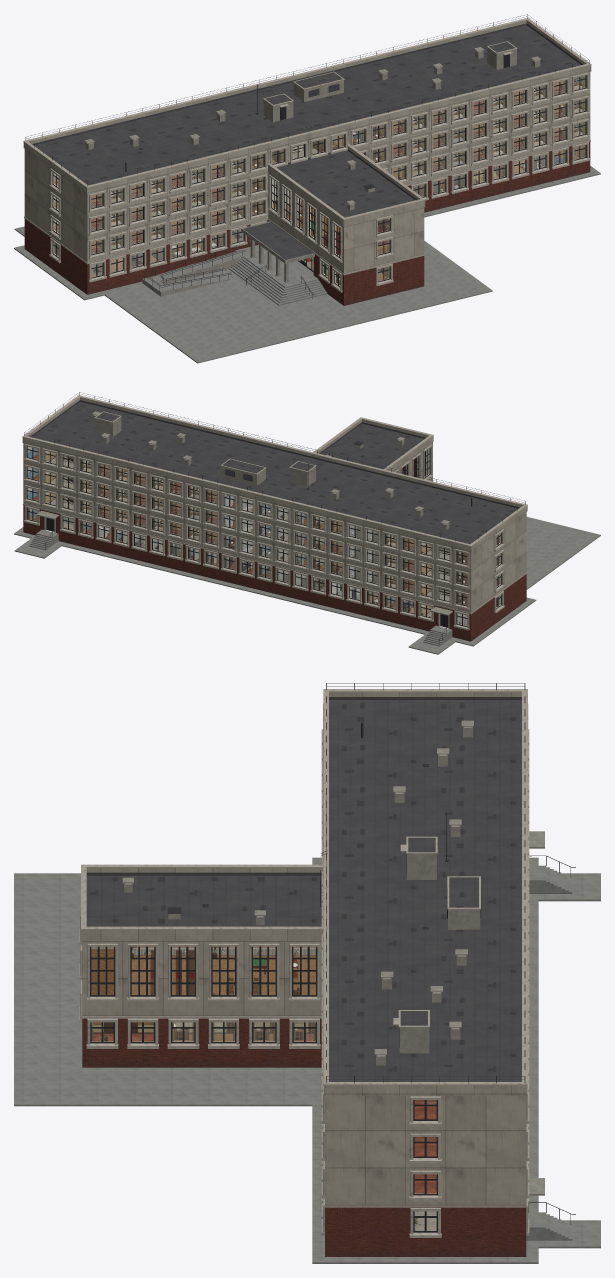
Rendered from SovietSanatorium.glb.
3 renders of one model, top to bottom at view 1: azimuth 30°, elevation 25°; view 2: azimuth 150°, elevation 25°; view 3: azimuth 270°, elevation 25°, orthographic. The views are drawn at different scales.
Parts seen in each view (by area): view 1: Roof_Surfaces, MainWing_Walls, Site_Paving, MainWing_Window_Surrounds, Facade_Trim, EntranceBlock_Walls, MainWing_Window_Frames, Roof_Structures, Entrance_Landing_Stairs, EntranceBlock_Window_Surrounds, Ramp_Structure, Roof_Railing (+6 smaller); view 2: Roof_Surfaces, MainWing_Walls, MainWing_Window_Surrounds, Facade_Trim, MainWing_Window_Frames, Site_Paving, Roof_Structures, Roof_Railing, RearExit_Porches, MainWing_Window_Glass, Shell_L0_STAIR2, Stair3_Flights (+2 smaller); view 3: Roof_Surfaces, Site_Paving, MainWing_Walls, Facade_Trim, EntranceBlock_Walls, Roof_Structures, EntranceBlock_Window_Surrounds, EntranceBlock_Window_Frames, MainWing_Window_Surrounds, Shell_L1_EB_HALL, RearExit_Porches, Roof_Railing (+3 smaller).
Boxes of the visible parts, x1=… form: Roof_Surfaces: x1=34, y1=25, x2=581, y2=217; MainWing_Walls: x1=24, y1=72, x2=590, y2=294; Site_Paving: x1=14, y1=166, x2=600, y2=363; MainWing_Window_Surrounds: x1=49, y1=72, x2=589, y2=282; Facade_Trim: x1=23, y1=18, x2=591, y2=275; EntranceBlock_Walls: x1=268, y1=172, x2=424, y2=305; MainWing_Window_Frames: x1=52, y1=75, x2=586, y2=278; Roof_Structures: x1=84, y1=41, x2=541, y2=210; Entrance_Landing_Stairs: x1=228, y1=244, x2=327, y2=305; EntranceBlock_Window_Surrounds: x1=268, y1=175, x2=424, y2=292; Ramp_Structure: x1=142, y1=251, x2=243, y2=296; Roof_Railing: x1=25, y1=14, x2=589, y2=186; Roof_Surfaces: x1=31, y1=401, x2=518, y2=544; MainWing_Walls: x1=23, y1=443, x2=526, y2=641; MainWing_Window_Surrounds: x1=24, y1=444, x2=504, y2=630; Facade_Trim: x1=22, y1=395, x2=527, y2=628; MainWing_Window_Frames: x1=26, y1=446, x2=501, y2=626; Site_Paving: x1=14, y1=517, x2=600, y2=654; Roof_Structures: x1=92, y1=411, x2=472, y2=529; Roof_Railing: x1=24, y1=392, x2=525, y2=543; RearExit_Porches: x1=29, y1=510, x2=452, y2=646; MainWing_Window_Glass: x1=28, y1=473, x2=466, y2=604; Shell_L0_STAIR2: x1=421, y1=542, x2=449, y2=616; Stair3_Flights: x1=49, y1=455, x2=73, y2=525; Roof_Surfaces: x1=86, y1=700, x2=521, y2=1081; Site_Paving: x1=14, y1=857, x2=600, y2=1263; MainWing_Walls: x1=325, y1=1095, x2=526, y2=1256; Facade_Trim: x1=81, y1=689, x2=527, y2=1207; EntranceBlock_Walls: x1=82, y1=941, x2=321, y2=1067; Roof_Structures: x1=122, y1=720, x2=481, y2=1065; EntranceBlock_Window_Surrounds: x1=79, y1=903, x2=320, y2=1048; EntranceBlock_Window_Frames: x1=90, y1=946, x2=317, y2=1043; MainWing_Window_Surrounds: x1=321, y1=704, x2=529, y2=1237; Shell_L1_EB_HALL: x1=91, y1=946, x2=315, y2=994; RearExit_Porches: x1=526, y1=831, x2=572, y2=1240; Roof_Railing: x1=326, y1=683, x2=525, y2=1083.
Bounding box in the file's own units: 77 × 19 × 47.2.
Materials: 34 (30 with a texture image).
